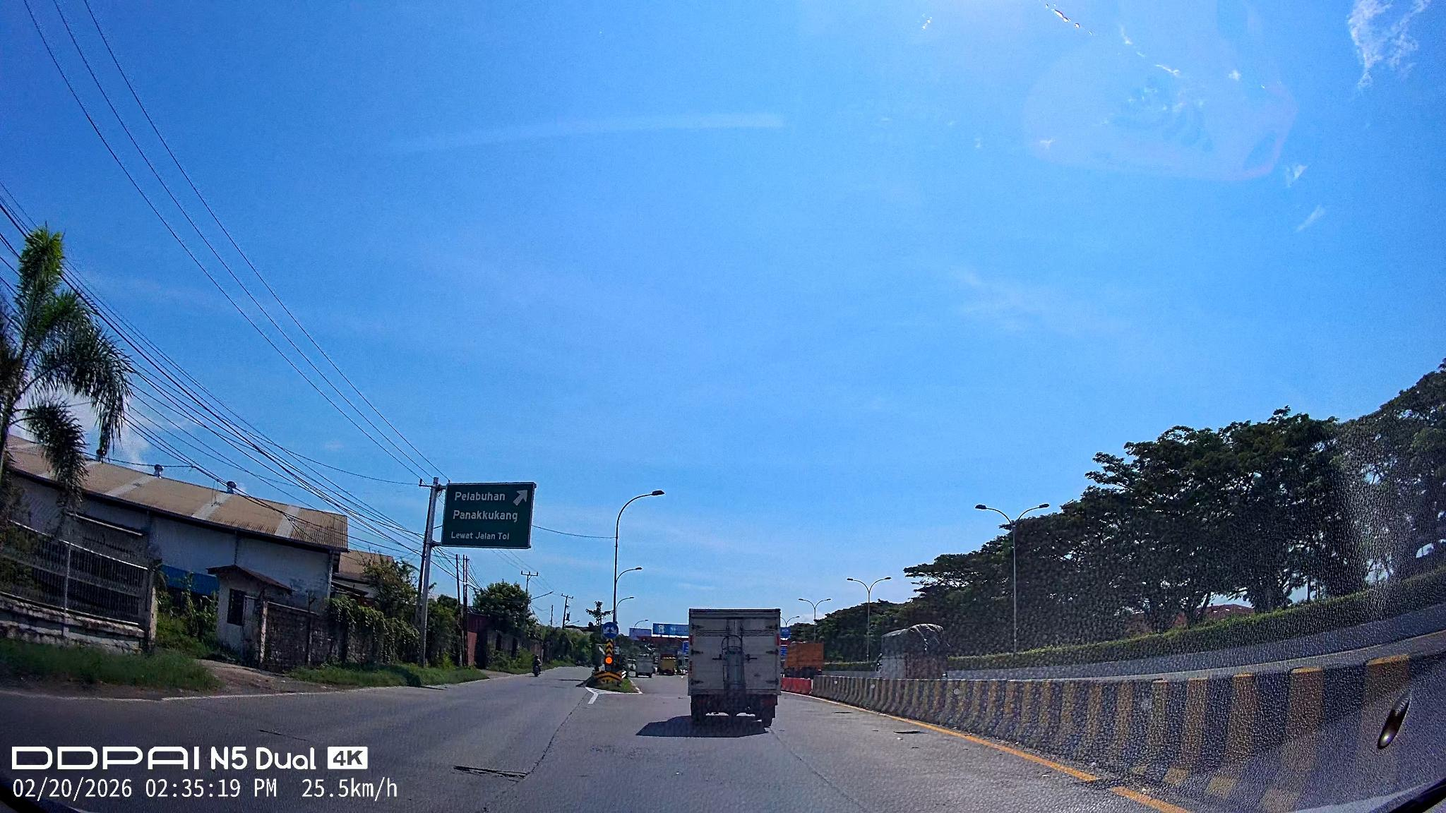rambu_teks: (440, 481, 537, 551)
